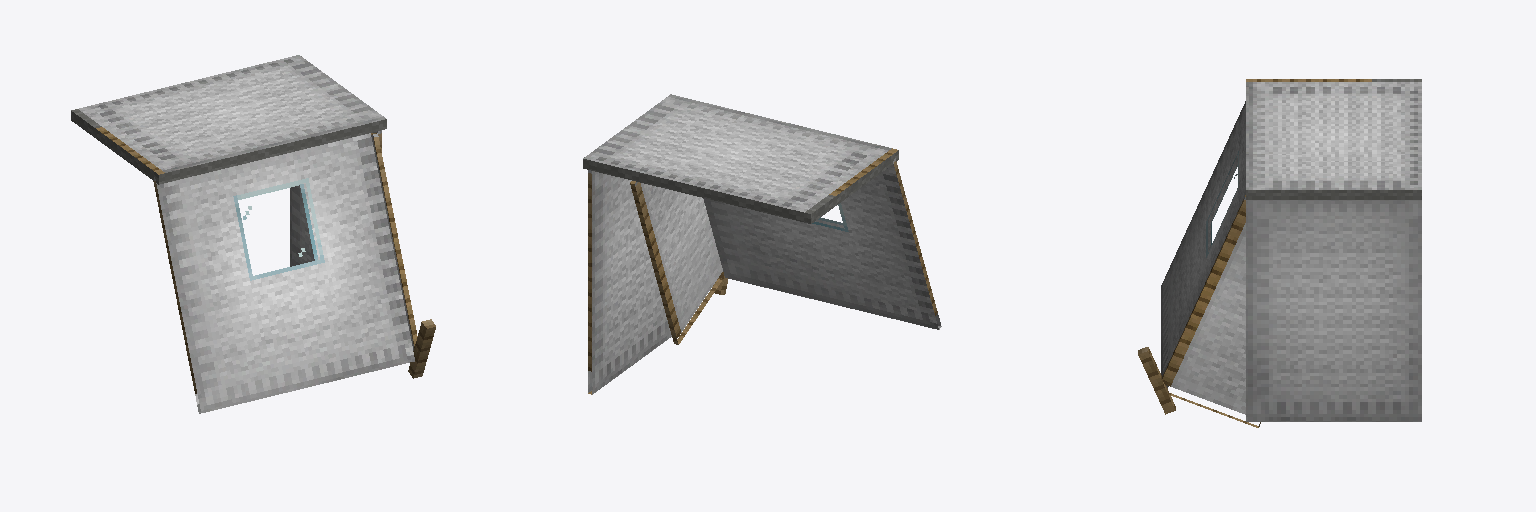
3 renders of one model, left to right at view 1: azimuth 30°, elevation 25°; view 2: azimuth 150°, elevation 25°; view 3: azimuth 270°, elevation 25°, orthographic.
Visible parts, largest first — view 1: cube; view 2: cube; view 3: cube.
Part boxes in pixels (x1,y1,x2,y2): cube: (71, 55, 435, 413); cube: (583, 94, 941, 394); cube: (1138, 79, 1421, 427).
Size of the model in its own units: 3 by 3.05 by 3.23.
1 materials, 1 textured.